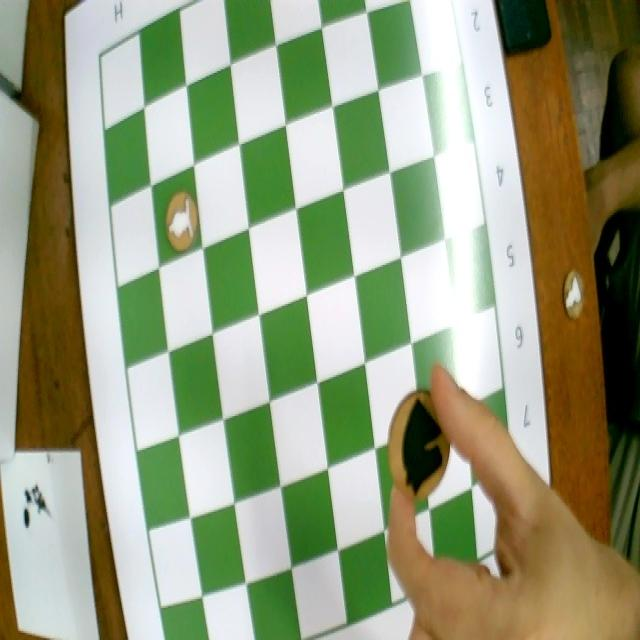chess-pieces: (164, 184, 203, 255)
